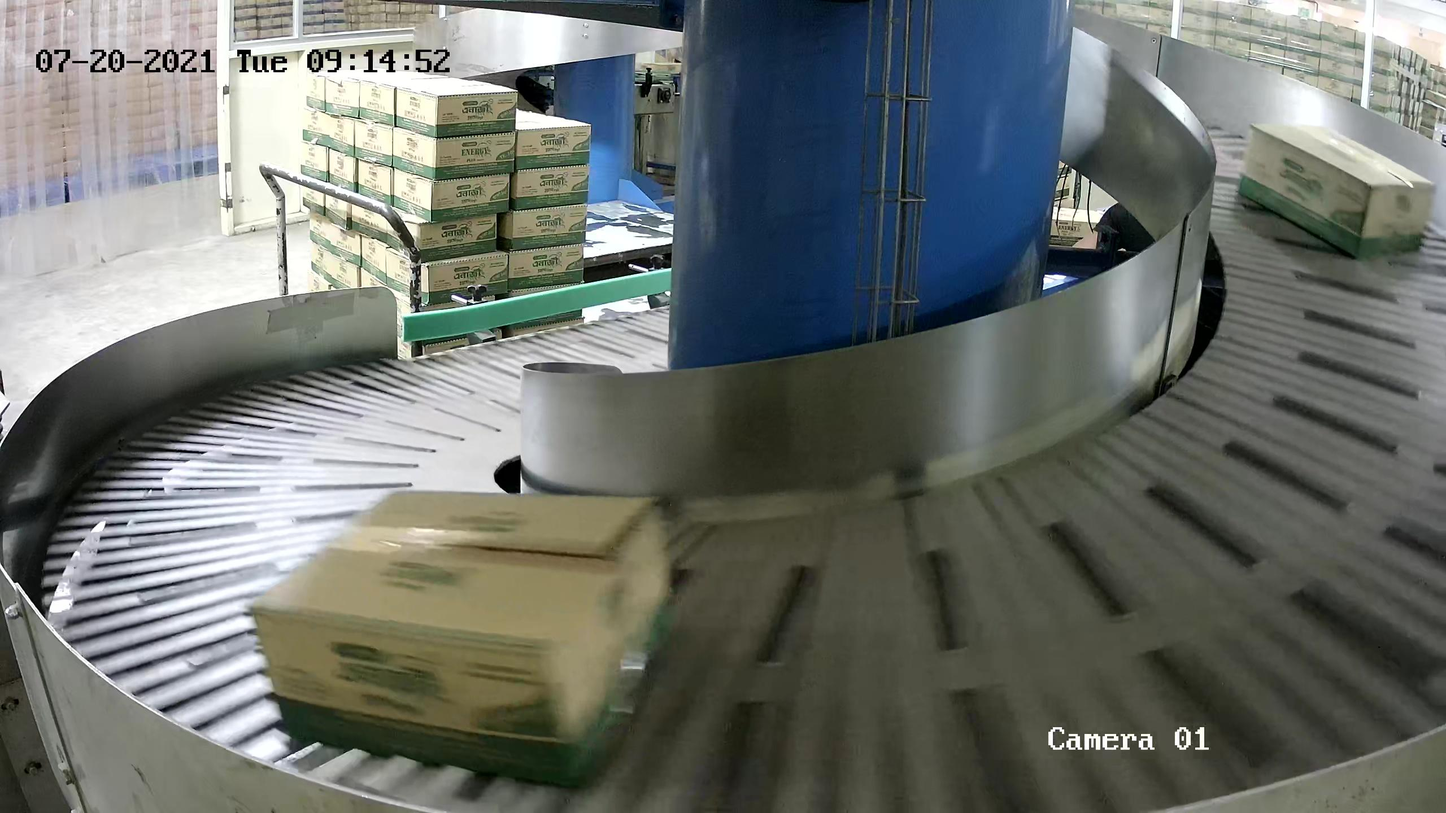Box: (246, 485, 682, 784), (1236, 122, 1438, 260)
